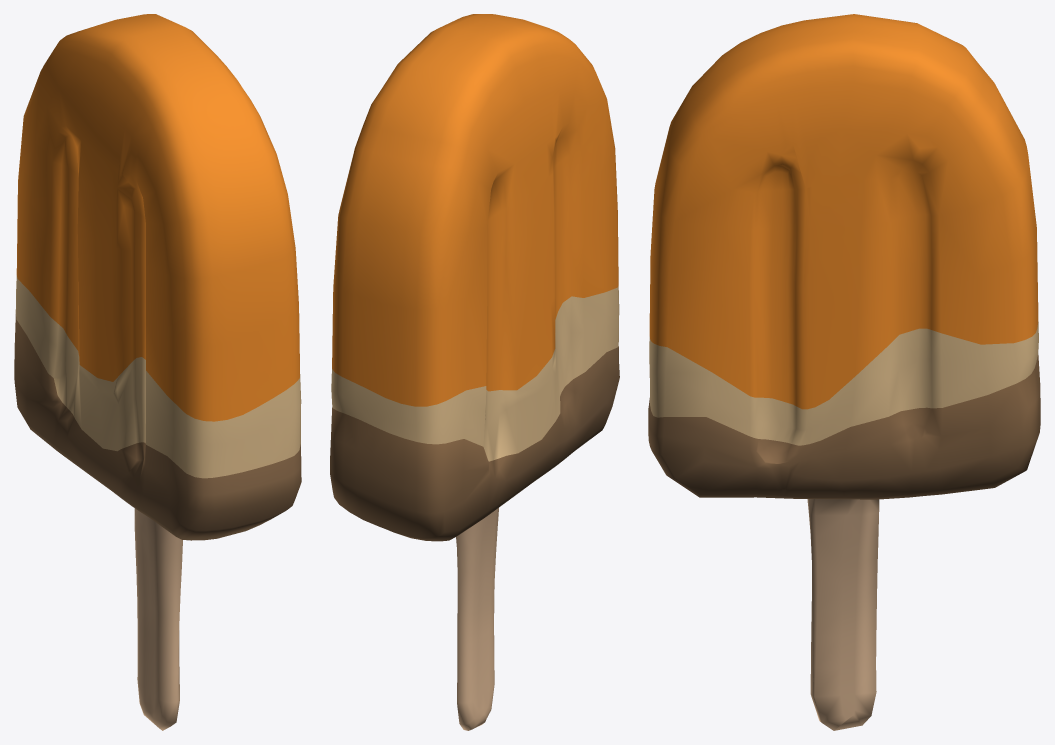
Rendered from IceCream_0001_0025.fbx.
The picture shows the model from 3 angles, left to right: view 1: azimuth 30°, elevation 25°; view 2: azimuth 150°, elevation 25°; view 3: azimuth 270°, elevation 25°; orthographic projection.
Parts seen in each view (by area): view 1: Ice_0001_0025; view 2: Ice_0001_0025; view 3: Ice_0001_0025.
Part boxes in pixels (x1,y1,x2,y2): Ice_0001_0025: (14,14,301,730); Ice_0001_0025: (330,14,619,730); Ice_0001_0025: (648,14,1040,730).
Size of the model in its own units: 0.0216 by 0.1171 by 0.0592.
Materials: 1 (1 with a texture image).
